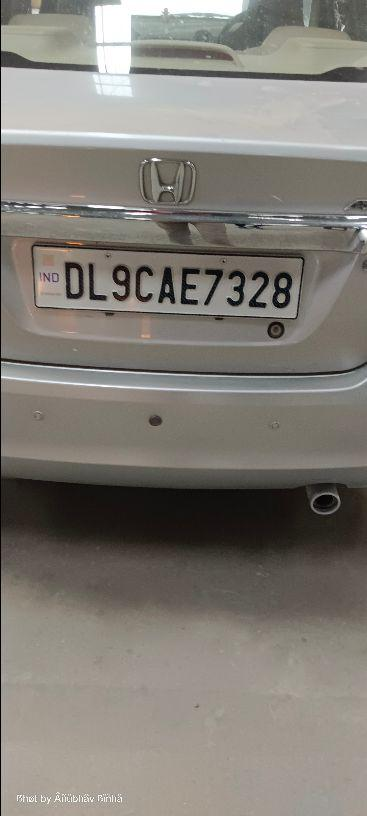license_plate: (31, 241, 305, 320)
